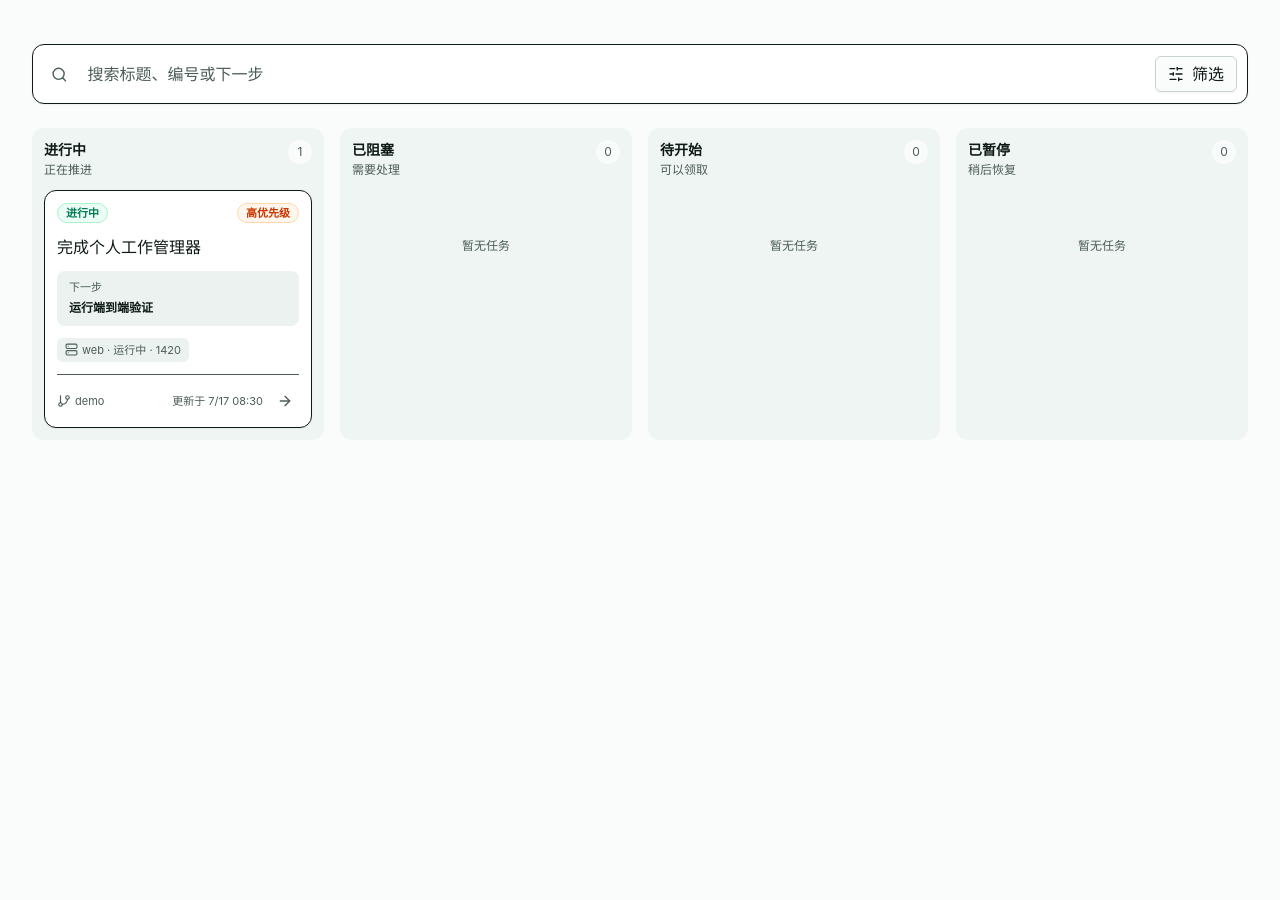
Test: 桌面端任务流 › 看板与项目页使用同一种搜索工具栏，并把条件筛选收进右侧操作按钮
Click the button "筛选".
click(1196, 74)  # box [1155, 56, 1237, 92]
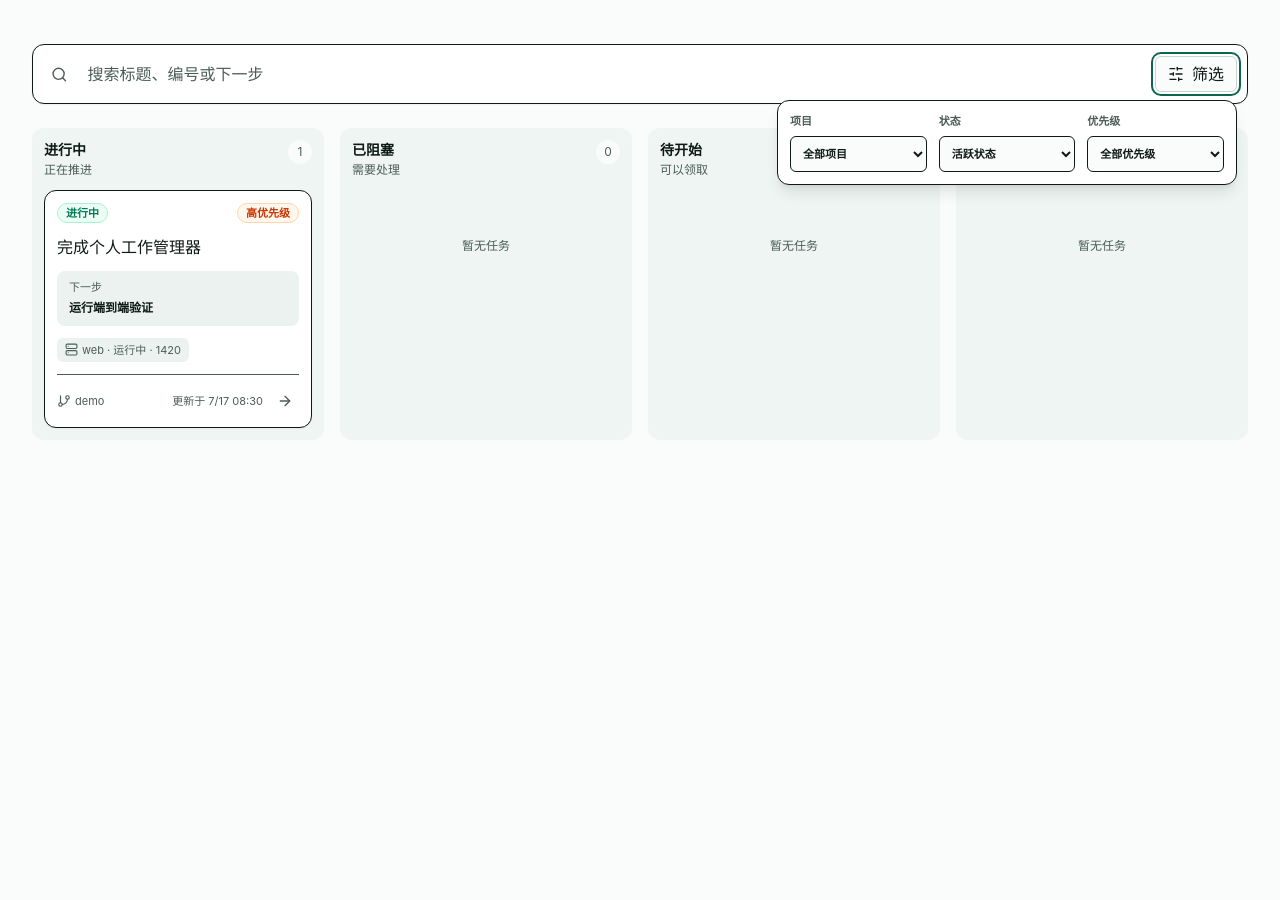
expect the dropdown named "按状态筛选" is shown: met, box [939, 136, 1075, 172]
